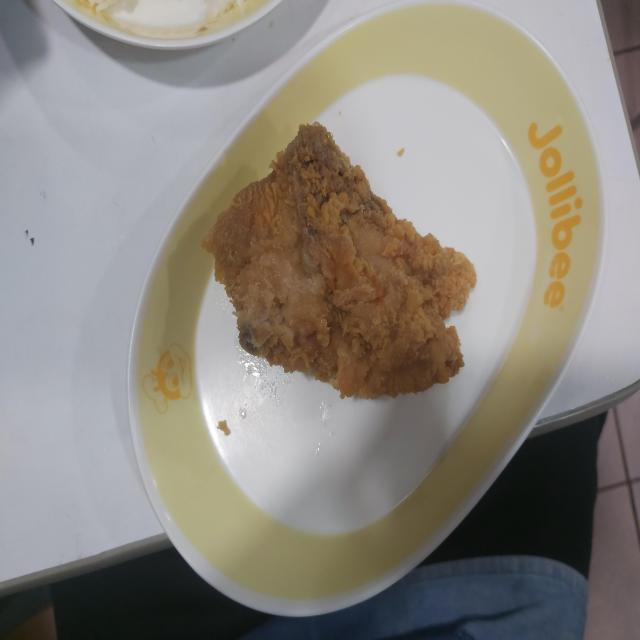Chicken -Fried Chicken-: (194, 120, 474, 416)
